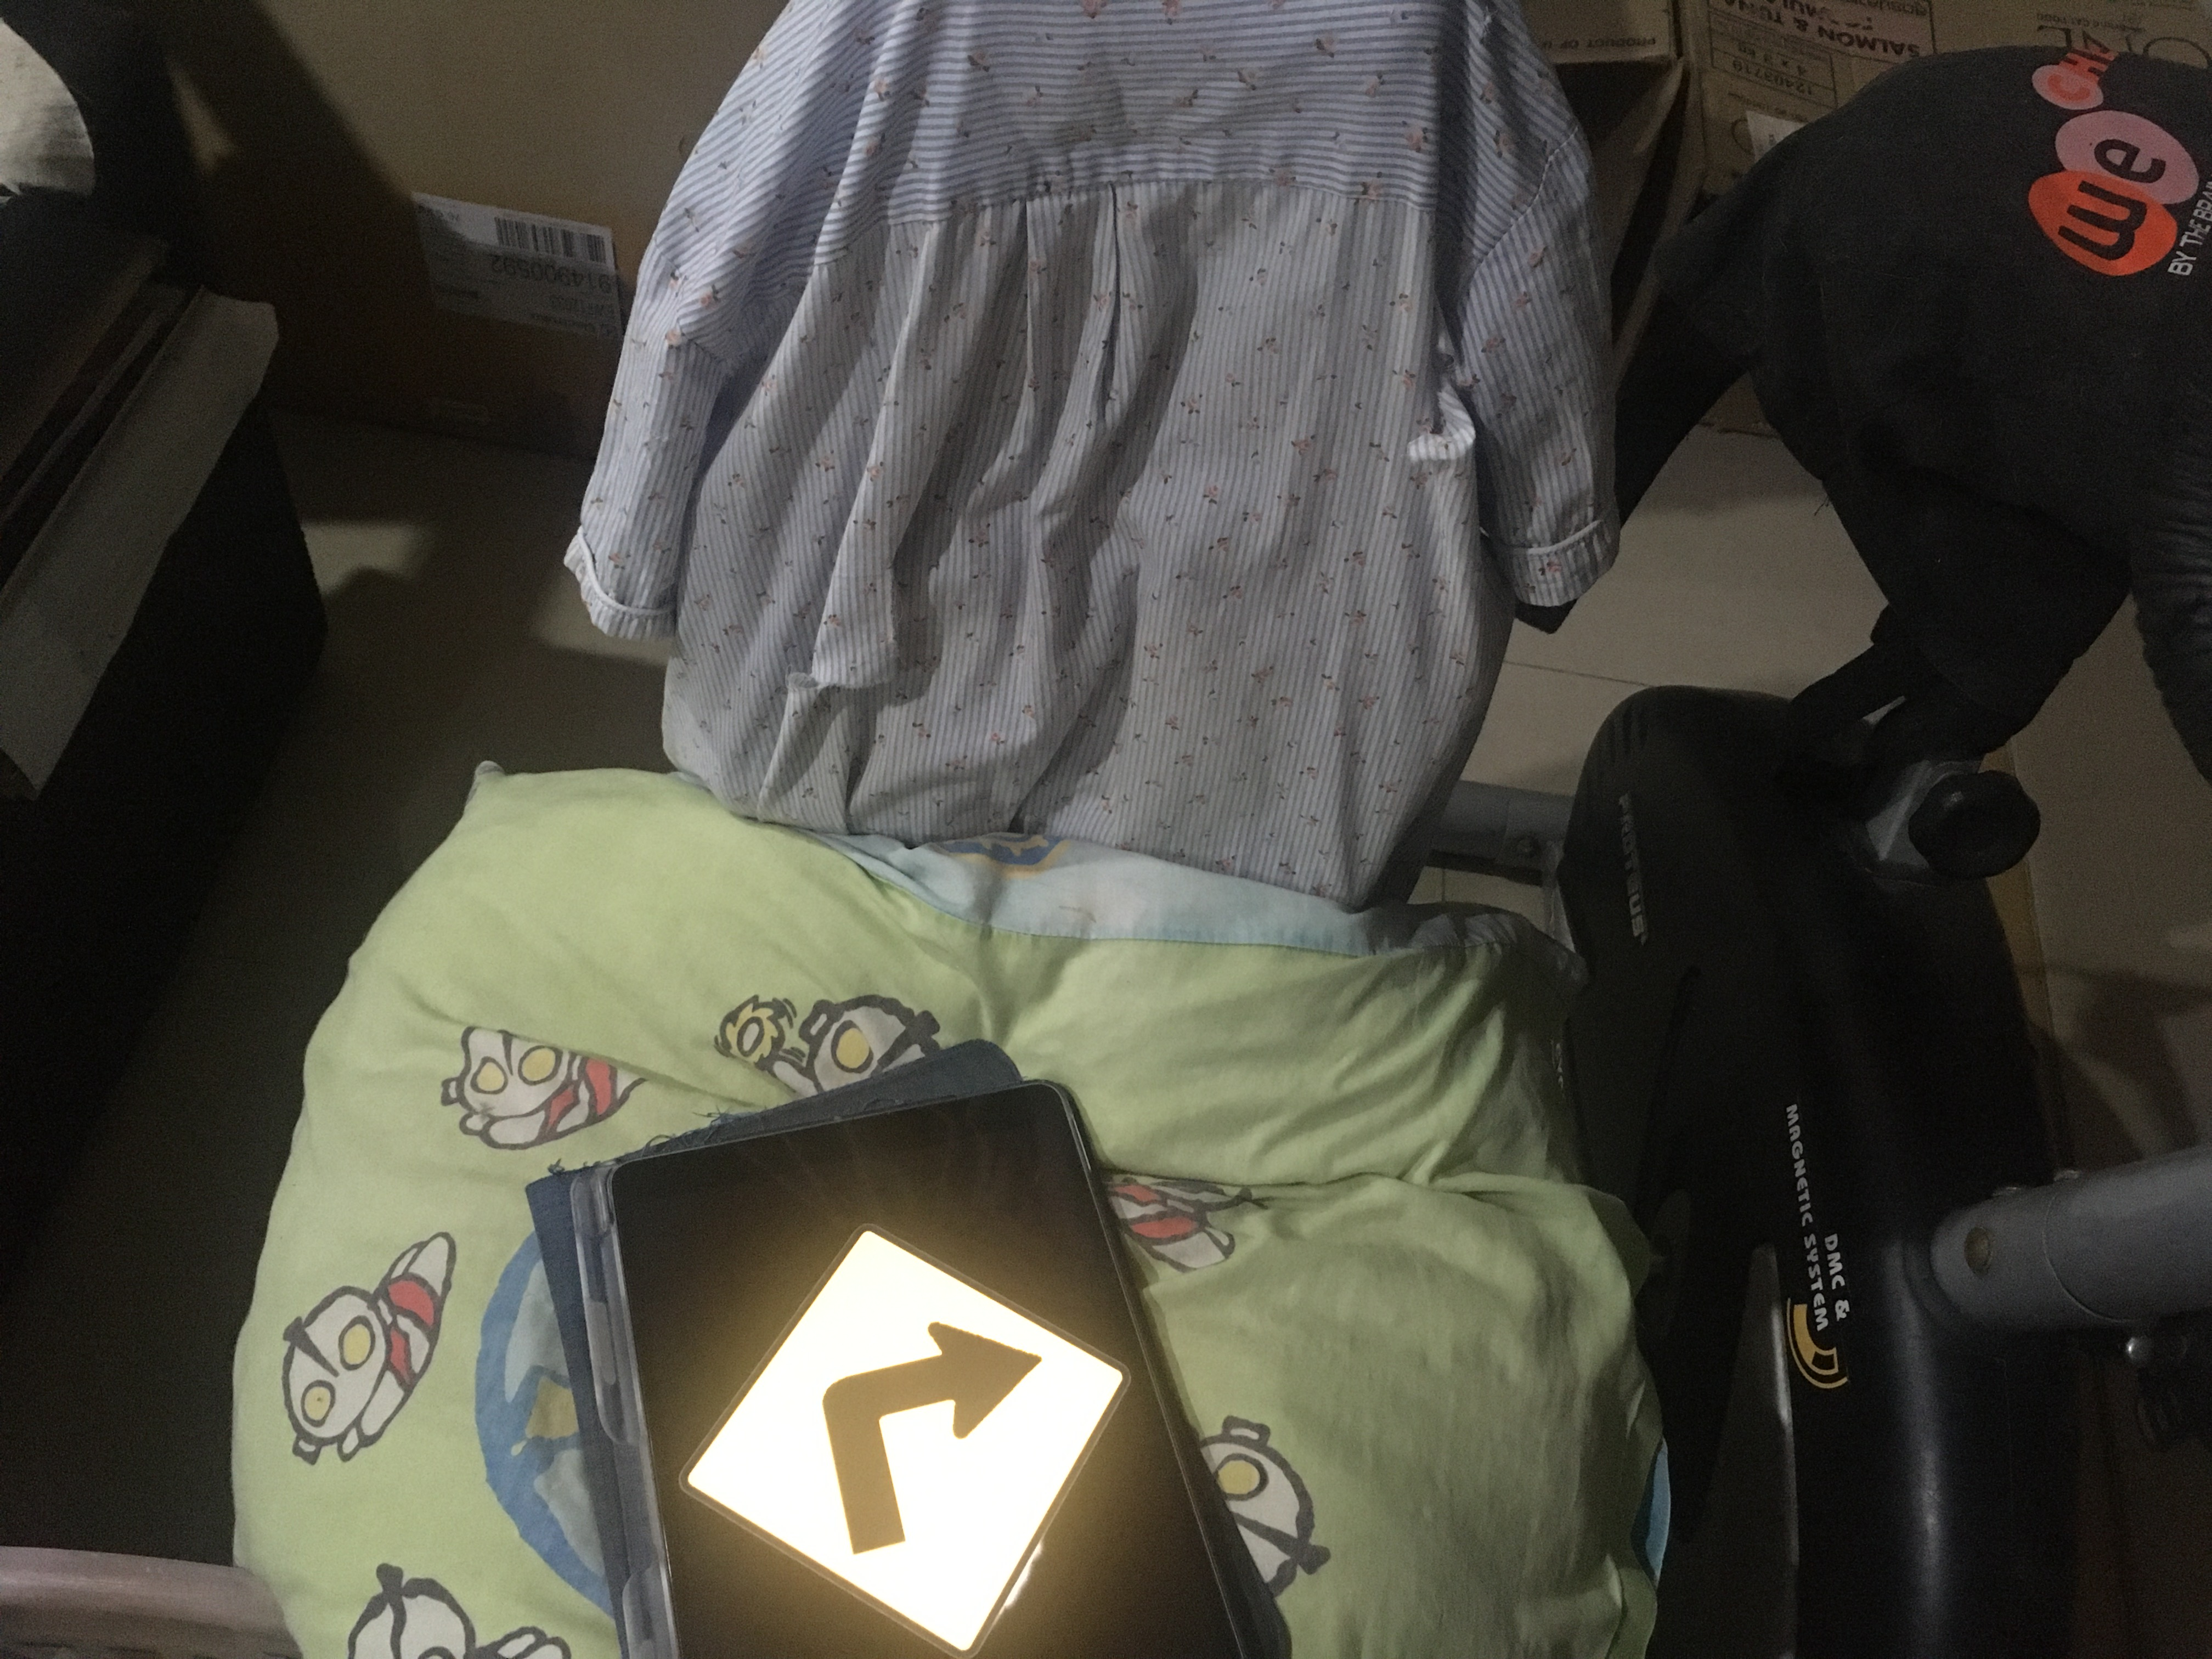right: (673, 1234, 1169, 1659)
